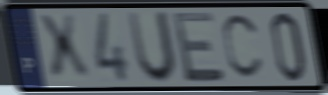0: (268, 10, 309, 85)
4: (93, 11, 133, 86)
C: (220, 12, 265, 82)
E: (169, 9, 228, 86)
U: (125, 9, 180, 87)
X: (35, 12, 94, 85)
